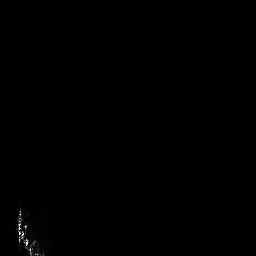ship: (14, 205, 47, 256)
